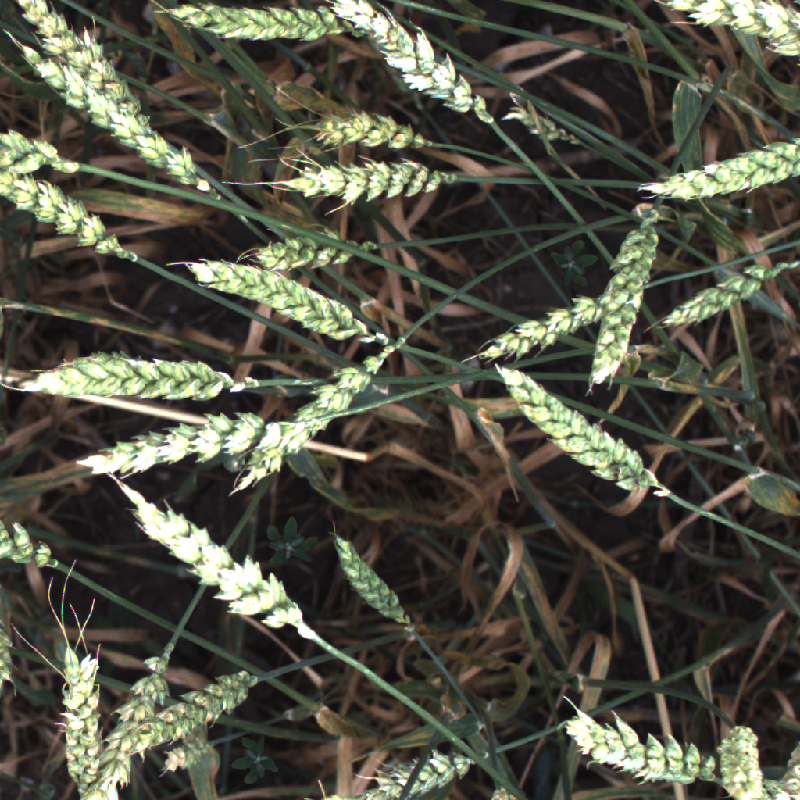spikelet: (96, 467, 316, 644), (16, 40, 224, 206), (226, 337, 420, 494), (491, 359, 663, 503), (307, 1, 492, 121), (167, 257, 405, 349), (1, 339, 261, 419), (14, 1, 152, 130), (470, 278, 648, 376), (67, 405, 285, 479), (1, 160, 142, 269), (270, 131, 451, 211), (92, 637, 178, 800), (558, 704, 719, 785), (632, 134, 800, 210), (588, 214, 657, 389), (126, 662, 256, 753), (328, 523, 419, 642), (170, 1, 346, 53), (656, 257, 771, 334), (651, 1, 800, 60), (231, 231, 397, 281), (1, 117, 92, 189), (320, 100, 425, 159), (364, 746, 475, 799), (61, 650, 99, 799), (715, 723, 766, 799), (509, 97, 579, 149), (1, 522, 60, 575), (761, 732, 800, 798), (160, 736, 211, 774), (1, 610, 19, 701)
weed: (256, 509, 325, 578), (551, 240, 598, 289), (231, 735, 278, 784)
